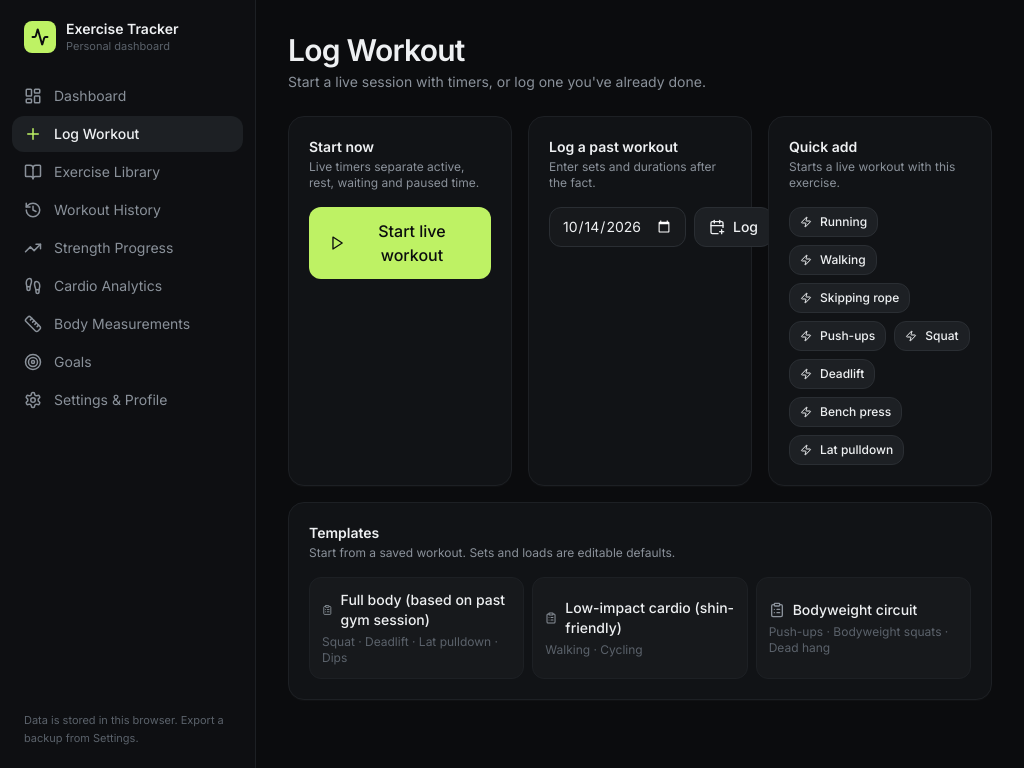
Test: workflows › shows the shin-pain warning when logging running
Click the button "Running" at [834, 222], box [789,207,878,237]
(page scrolled)
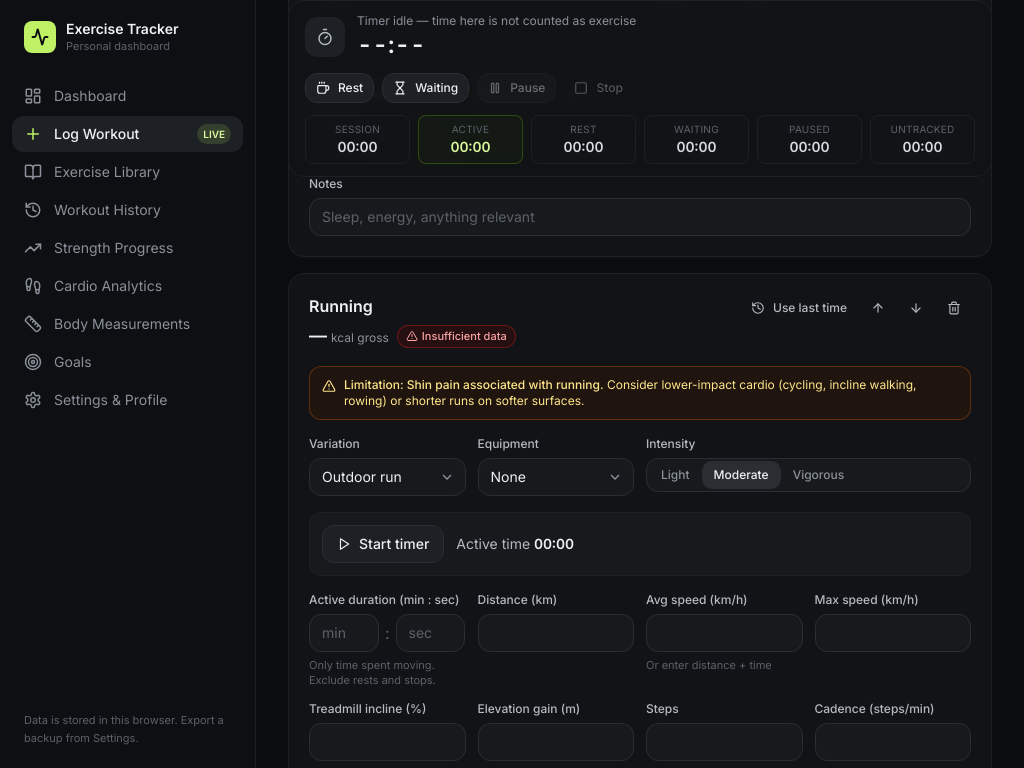
Now the text "Limitation: Shin pain associated with running." is shown, box [344,377,604,392]
